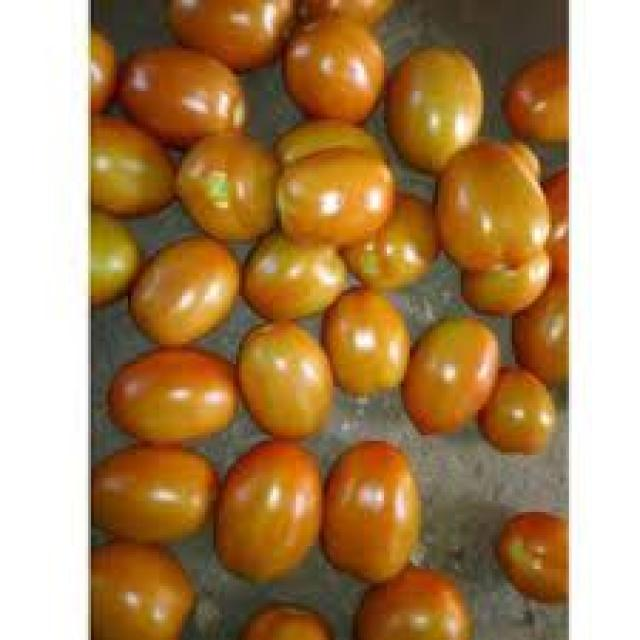Fresh_tomato: (89, 0, 277, 239), (406, 35, 549, 265), (294, 14, 388, 248), (98, 220, 247, 353), (349, 295, 491, 420), (261, 242, 335, 440), (235, 449, 326, 569), (108, 356, 240, 438), (106, 451, 216, 540), (102, 547, 202, 640), (521, 503, 590, 593)
